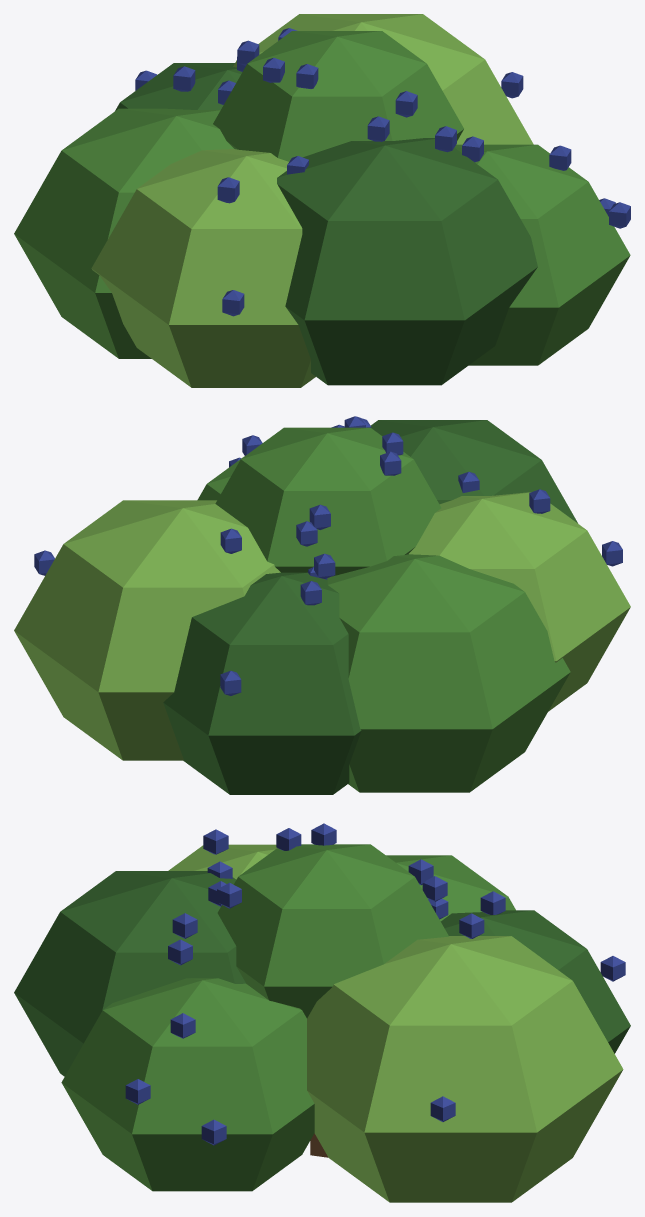
The model's file is bush_blueberries.glb.
3 views of the same model, one above another, from view 1: azimuth 30°, elevation 25°; view 2: azimuth 150°, elevation 25°; view 3: azimuth 270°, elevation 25° (orthographic). The views are drawn at different scales.
Parts seen in each view (by area): view 1: scatter_bush_blueberries; view 2: scatter_bush_blueberries; view 3: scatter_bush_blueberries.
Boxes of the visible parts, x1,y1,x2,y2 form: scatter_bush_blueberries: (14, 14, 630, 387); scatter_bush_blueberries: (14, 416, 630, 794); scatter_bush_blueberries: (14, 823, 630, 1202).
Bounding box in the file's own units: 1.94 × 1.16 × 2.14.
